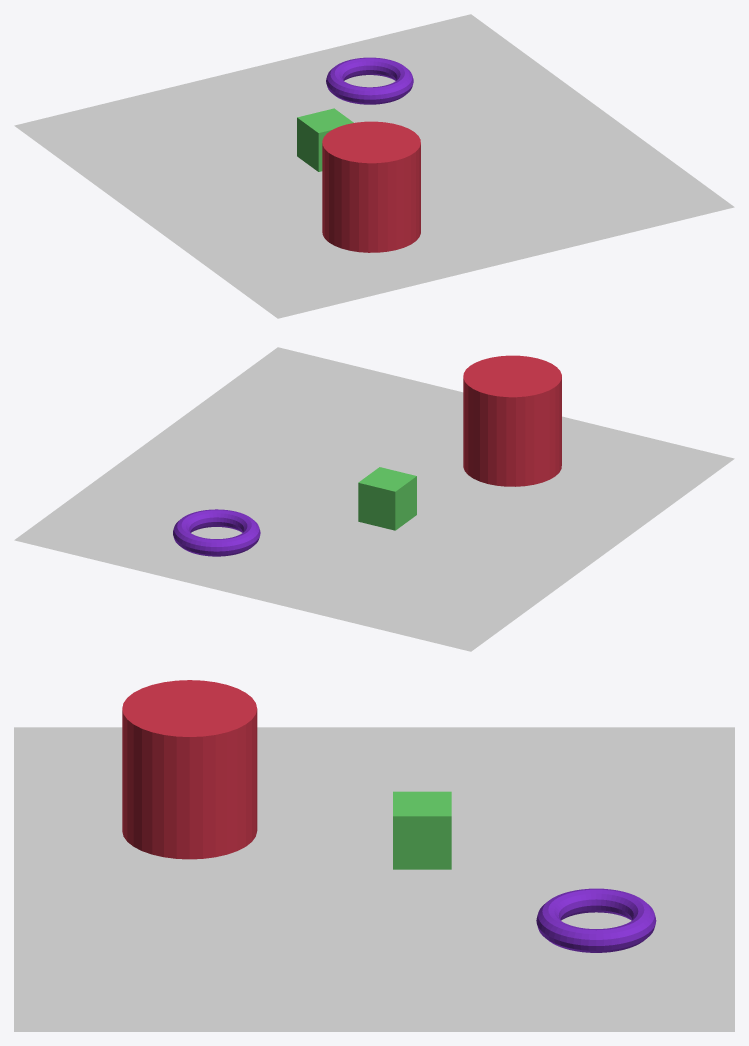
The model's file is test_env.gltf.
The picture shows the model from 3 angles, top to bottom: view 1: azimuth 30°, elevation 25°; view 2: azimuth 150°, elevation 25°; view 3: azimuth 270°, elevation 25°; orthographic projection. The views are drawn at different scales.
Parts seen in each view (by area): view 1: Plane, Cylinder, Torus, Cube; view 2: Plane, Cylinder, Cube, Torus; view 3: Plane, Cylinder, Torus, Cube.
Boxes of the visible parts, box(x1,y1,x2,y2) form: Plane: box(14, 14, 734, 318); Cylinder: box(322, 121, 420, 252); Torus: box(326, 57, 413, 104); Cube: box(297, 108, 353, 171); Plane: box(14, 347, 734, 651); Cylinder: box(463, 355, 561, 486); Cube: box(358, 467, 416, 530); Torus: box(173, 509, 260, 556); Plane: box(14, 727, 734, 1031); Cylinder: box(122, 680, 257, 859); Torus: box(536, 888, 656, 952); Cube: box(393, 791, 451, 869).
Size of the model in its own units: 5.44 by 1.04 by 5.44.
